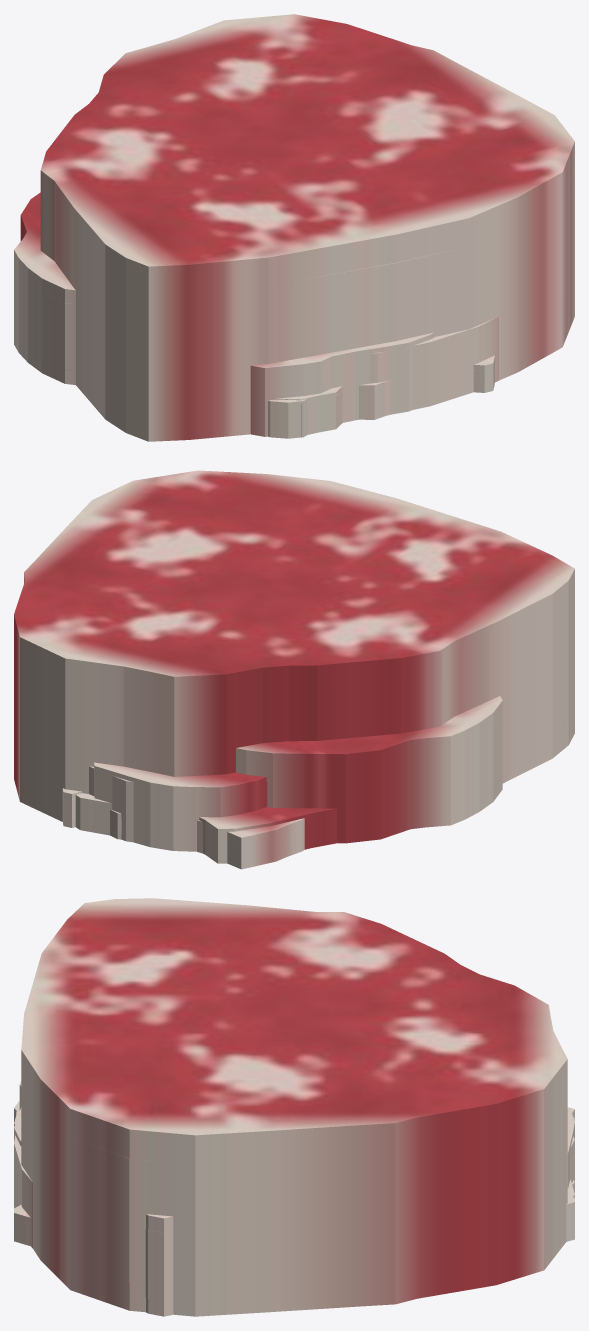
The model's file is r32_steaks.glb.
The picture shows the model from 3 angles, top to bottom: view 1: azimuth 30°, elevation 25°; view 2: azimuth 150°, elevation 25°; view 3: azimuth 270°, elevation 25°; orthographic projection. The views are drawn at different scales.
Parts seen in each view (by area): view 1: roh_12, roh_13, roh_0, roh_14, roh_11, roh_15, roh_1, roh_5, roh_4, roh_2, roh_3; view 2: roh_12, roh_13, roh_14, roh_0, roh_15, roh_5, roh_9, roh_1, roh_11, roh_4, roh_6, roh_10; view 3: roh_12, roh_13, roh_14, roh_15, roh_11, roh_0.
Part boxes in pixels (box(x1,y1,x2,y2)): roh_12: box(40, 14, 574, 441); roh_13: box(41, 28, 574, 412); roh_0: box(250, 332, 434, 436); roh_14: box(14, 192, 75, 384); roh_11: box(369, 316, 498, 409); roh_15: box(19, 209, 75, 370); roh_1: box(282, 339, 413, 414); roh_5: box(276, 386, 342, 434); roh_4: box(359, 380, 390, 419); roh_2: box(268, 405, 307, 432); roh_3: box(268, 399, 307, 438); roh_12: box(14, 470, 574, 821); roh_13: box(20, 483, 574, 795); roh_14: box(236, 696, 502, 843); roh_0: box(93, 762, 266, 851); roh_15: box(256, 703, 502, 829); roh_5: box(199, 807, 336, 863); roh_9: box(197, 818, 304, 869); roh_1: box(94, 763, 251, 838); roh_11: box(89, 766, 267, 842); roh_4: box(75, 793, 111, 835); roh_6: box(218, 815, 317, 860); roh_10: box(197, 824, 253, 865); roh_12: box(21, 898, 567, 1316); roh_13: box(21, 912, 567, 1287); roh_14: box(146, 1214, 173, 1316); roh_15: box(145, 1229, 163, 1301); roh_11: box(14, 1135, 574, 1248); roh_0: box(14, 1081, 574, 1160).
Bounding box in the file's own units: 1 × 0.3567 × 1.
2 materials, 2 textured.
